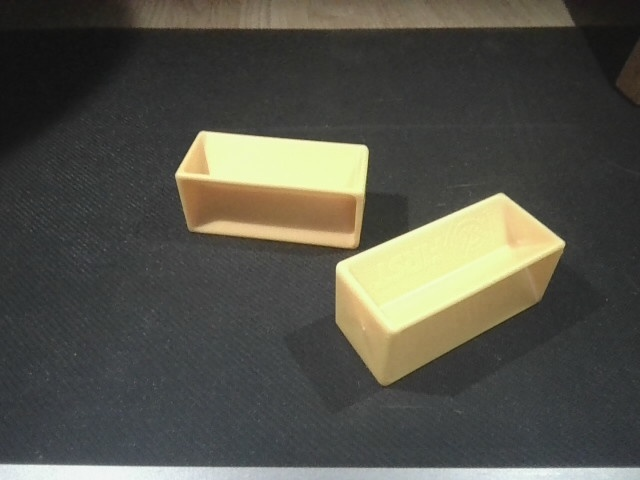YellowSample: (329, 190, 568, 388), (172, 126, 372, 255)
